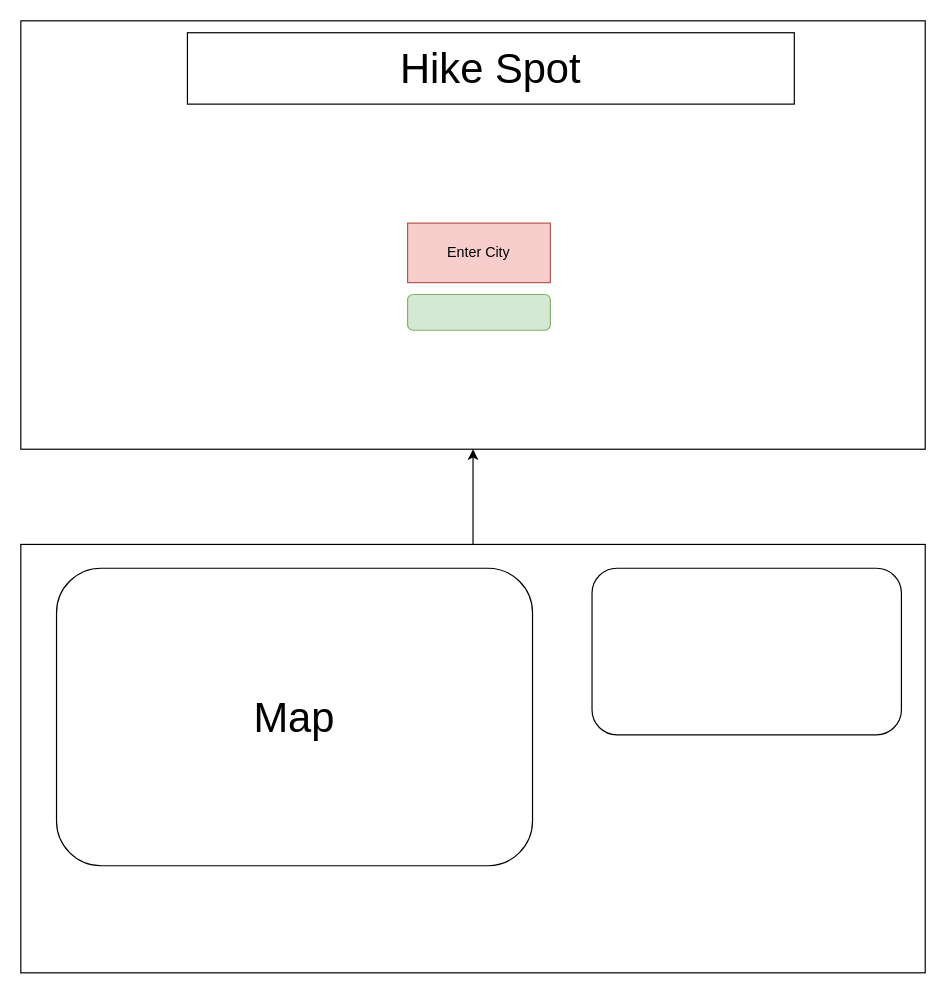
The diagram is 946 pixels wide and 994 high, and some of its shapes have lost their labels. Each missing label, with the centre of its shape:
"Search" belongs at [478,311].
"Weather" belongs at [746,651].
